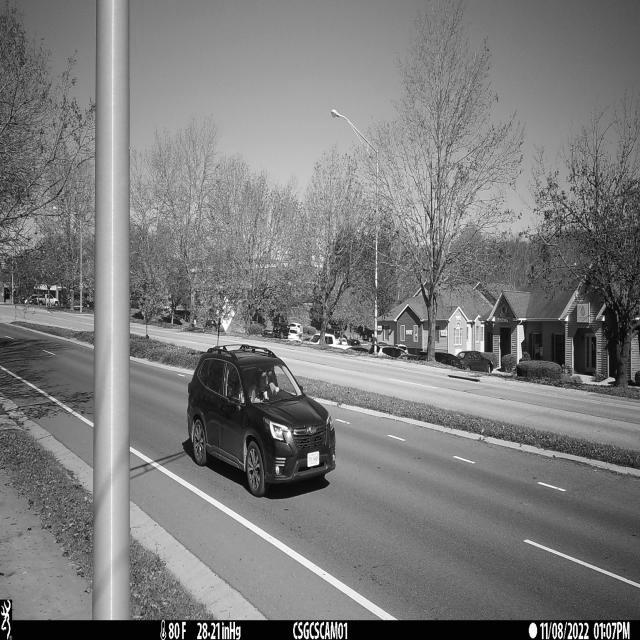SUV: (188, 344, 336, 497)
